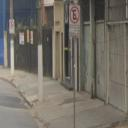NoEstacionar: (67, 4, 81, 26), (8, 18, 14, 30)
